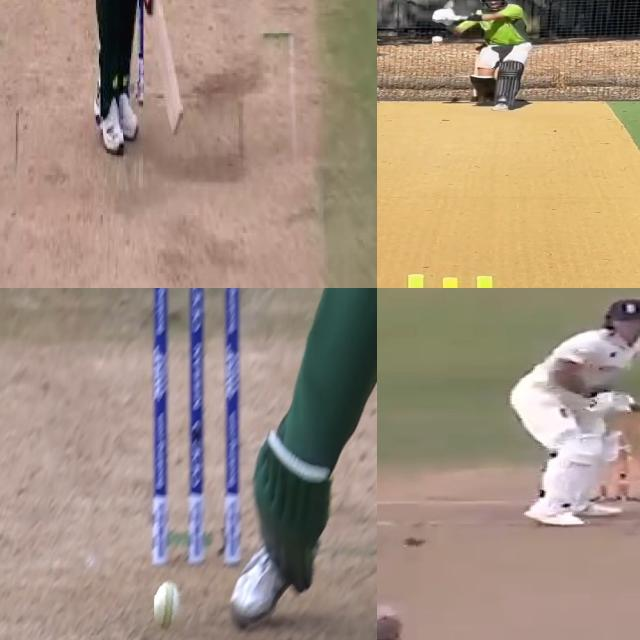Cricket ball: (154, 580, 184, 630), (403, 534, 429, 550), (432, 36, 443, 44)
Stumps: (152, 288, 239, 568)
